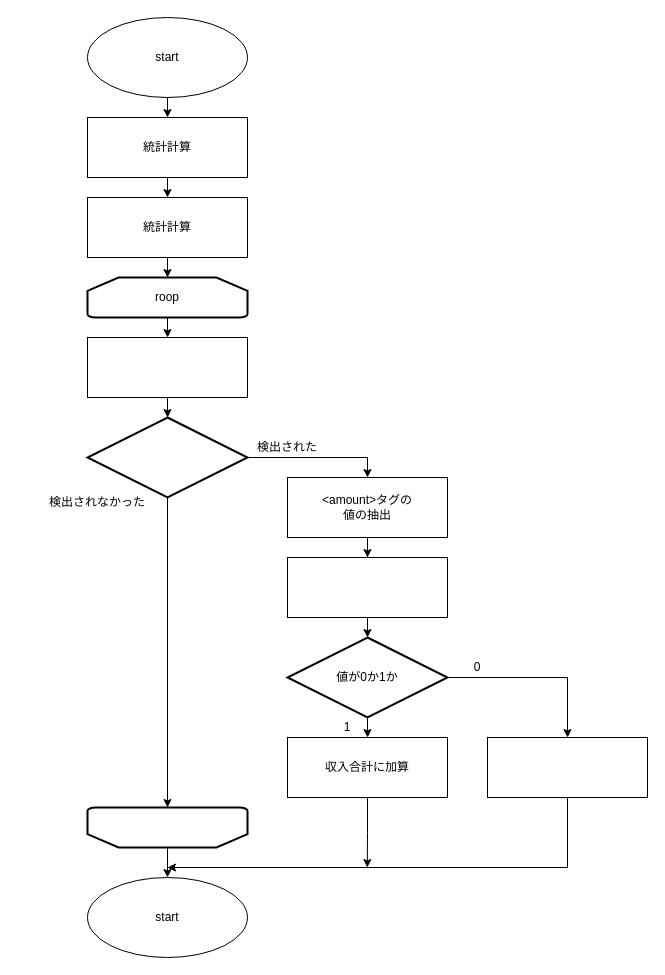
Image size: 665x975. Some labels were removed from this diagram. The shapes that lost their labels are listed below. From the top down, each one's box as (x1, y1, x2, y2) in pixels, then its label:
(86, 336, 248, 398): 行の読み取り
(86, 416, 248, 498): <amount> タグの検出
(286, 556, 448, 618): 抽出した値の判別
(486, 736, 648, 798): 支出合計に加算
